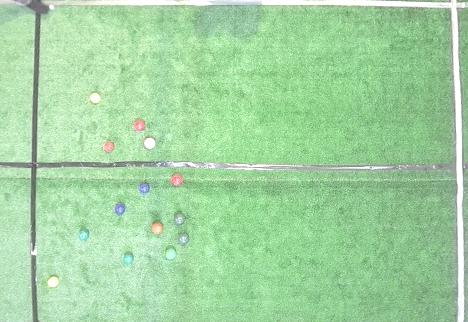blue: (115, 203, 125, 216), (139, 183, 150, 193)
green: (178, 233, 189, 245), (165, 248, 176, 260), (123, 253, 134, 264), (78, 229, 89, 240), (174, 214, 185, 224)
red: (151, 222, 163, 234), (171, 174, 183, 186), (144, 138, 156, 149), (134, 120, 145, 132), (104, 142, 115, 152)
vline: (1, 14, 42, 321), (448, 0, 467, 322)
white: (49, 4, 55, 10)
yellow: (47, 276, 59, 287), (90, 93, 101, 104)
